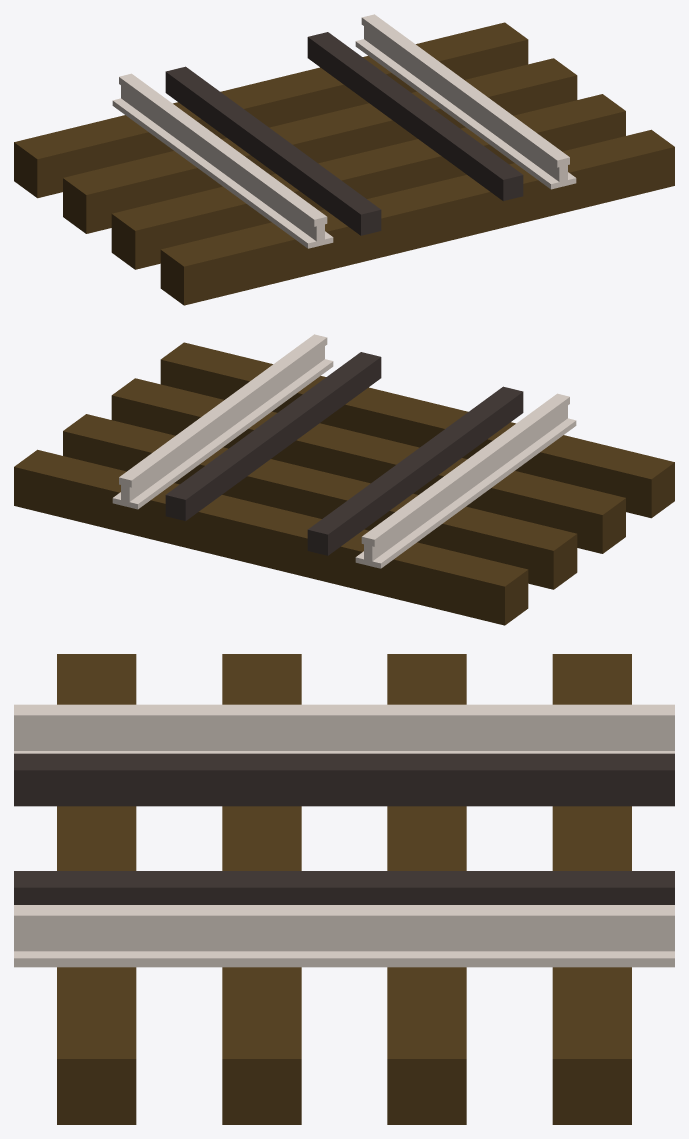
Rendered from track.fbx.
3 renders of one model, top to bottom at view 1: azimuth 30°, elevation 25°; view 2: azimuth 150°, elevation 25°; view 3: azimuth 270°, elevation 25°, orthographic. The views are drawn at different scales.
Visible parts, largest first — view 1: p423_track; view 2: p423_track; view 3: p423_track.
Boxes of the visible parts, bbox=[...] form: p423_track: bbox=[14, 14, 674, 305]; p423_track: bbox=[14, 334, 674, 625]; p423_track: bbox=[14, 654, 674, 1124].
Size of the model in its own units: 2.9 by 0.375 by 2.
